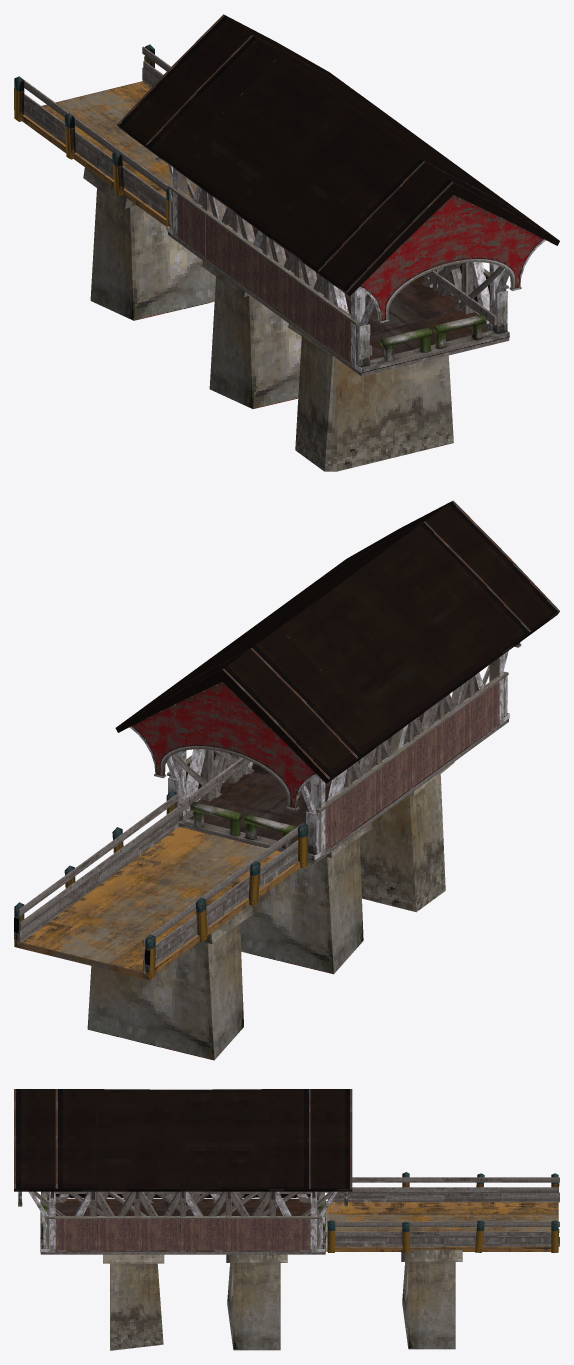
File: Covered_bridge_04.glb
3 views of the same model, one above another, from view 1: azimuth 30°, elevation 25°; view 2: azimuth 150°, elevation 25°; view 3: azimuth 270°, elevation 25° (orthographic). The views are drawn at different scales.
Parts seen in each view (by area): view 1: Covered_bridge_04; view 2: Covered_bridge_04; view 3: Covered_bridge_04.
Boxes of the visible parts, left/top/right/bottom form: Covered_bridge_04: left=14, top=14, right=559, bottom=471; Covered_bridge_04: left=14, top=500, right=559, bottom=1060; Covered_bridge_04: left=14, top=1089, right=559, bottom=1350.
Size of the model in its own units: 8.69 by 12.66 by 26.28.
1 material, 1 textured.
